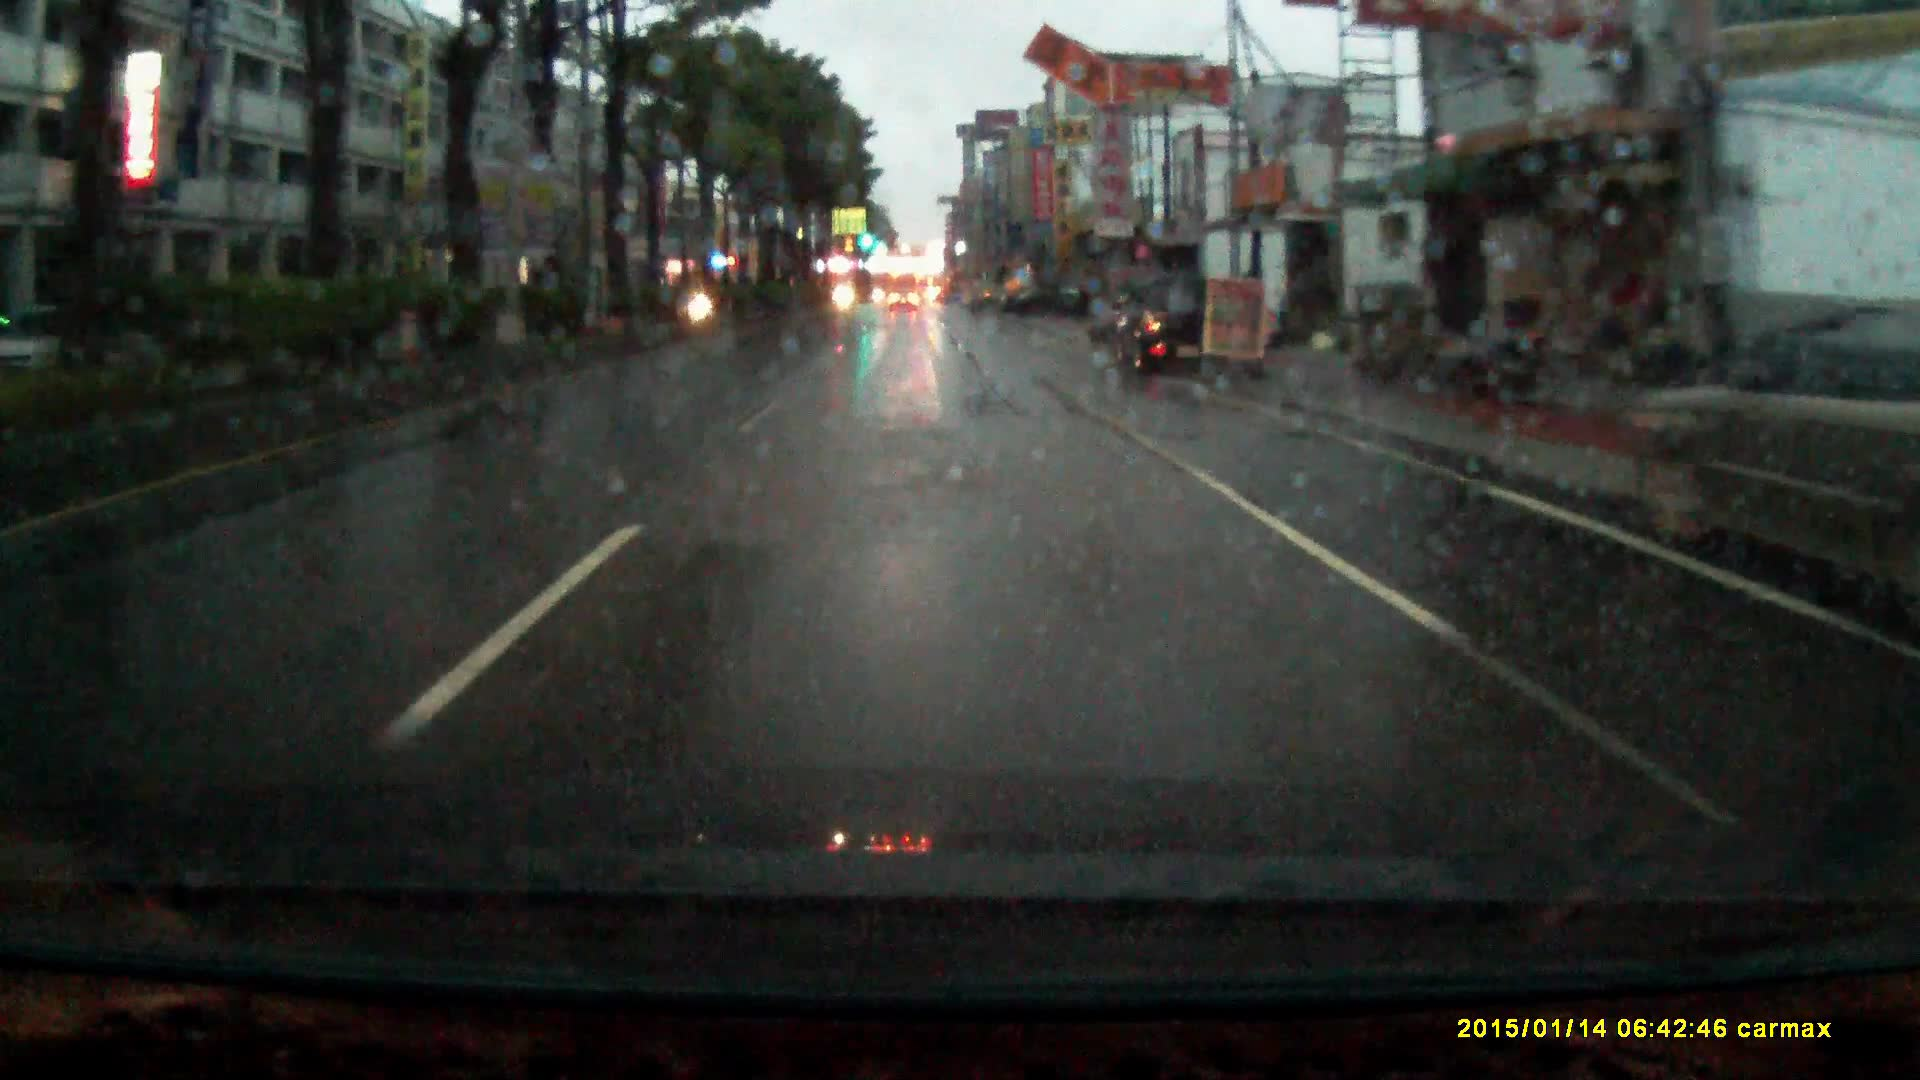vehicle: (1642, 349, 1920, 595), (1095, 280, 1242, 386), (890, 295, 919, 319)
